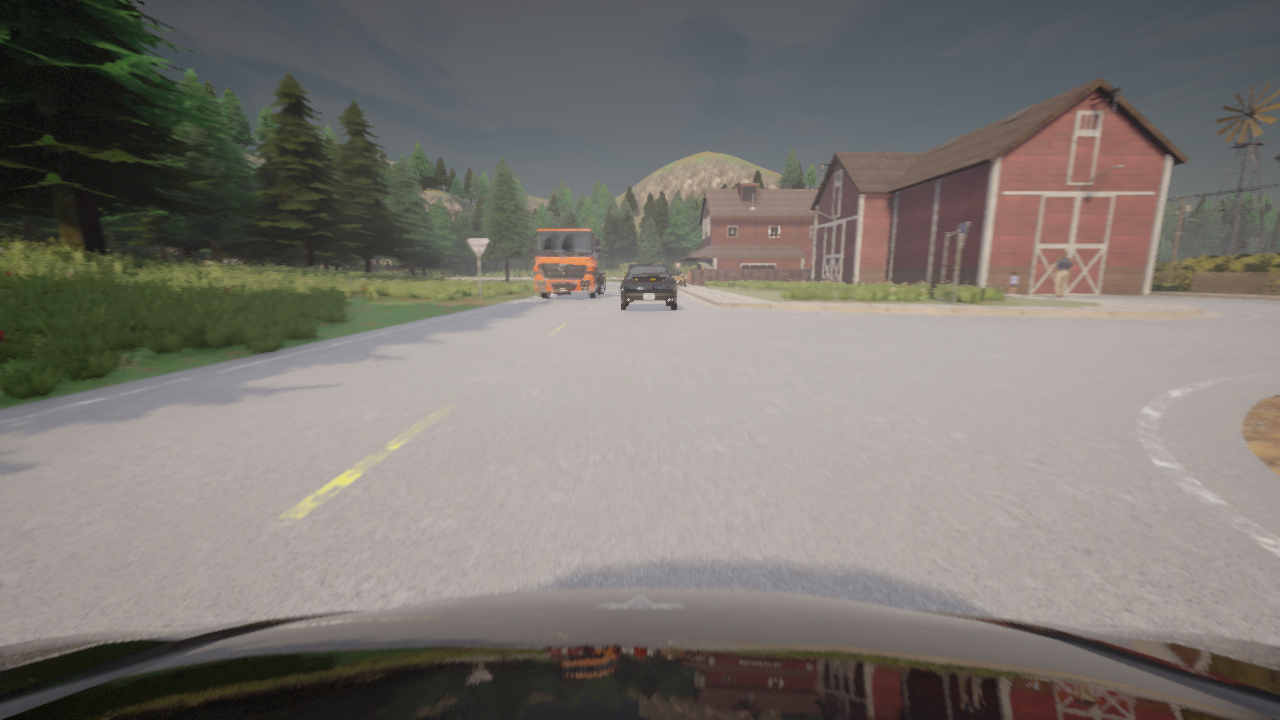cyclist: (0, 588, 1279, 719), (529, 227, 604, 298), (617, 263, 678, 310), (670, 270, 685, 285)
pedestrian: (1053, 252, 1072, 297), (1008, 271, 1017, 297)
